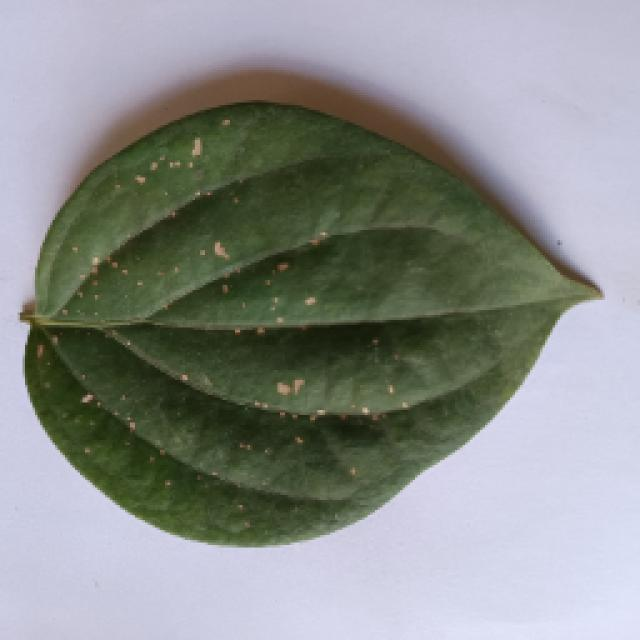pollu-disease: (15, 100, 600, 550)
